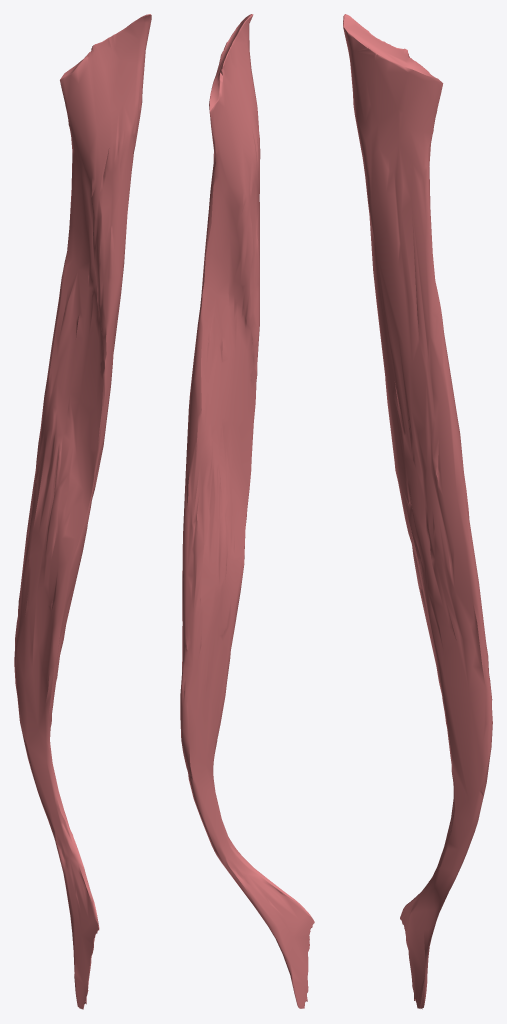
3 views of the same model, side by side, from view 1: azimuth 90°, elevation 25°; view 2: azimuth 150°, elevation 25°; view 3: azimuth 270°, elevation 25° (orthographic). The views are drawn at different scales.
Parts seen in each view (by area): view 1: FJ1421; view 2: FJ1421; view 3: FJ1421.
Part boxes in pixels (left/top/right/bottom): FJ1421: left=14, top=14, right=151, bottom=1009; FJ1421: left=180, top=14, right=314, bottom=1008; FJ1421: left=343, top=14, right=492, bottom=1009.
Bounding box in the file's own units: 0.058 × 0.5118 × 0.0668.
